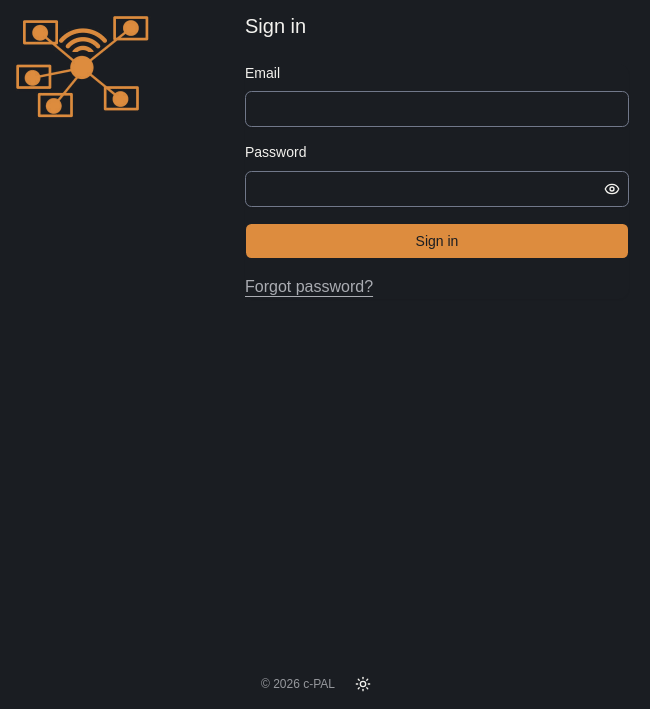
Test: Login › blocks submission and shows inline messages when email/password are empty, without issuing a request (FR5)
The width and height of the screenshot is (650, 709).
Click the button with test id "login-submit". click: (437, 240)
box: [245, 222, 629, 258]
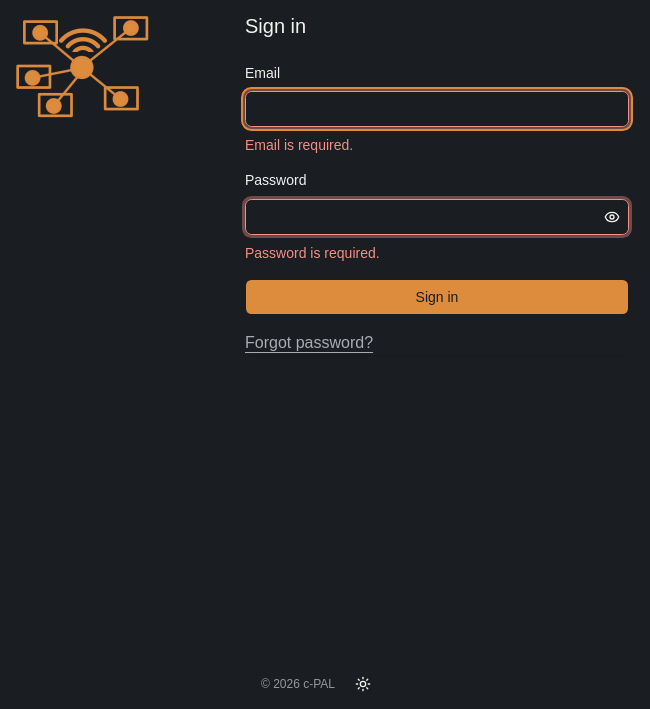
Expected: the message with test id "login-email-error" reads "Email is required.", [245, 137, 353, 153]
Expected: the message with test id "login-password-error" reads "Password is required.", [245, 244, 380, 260]
